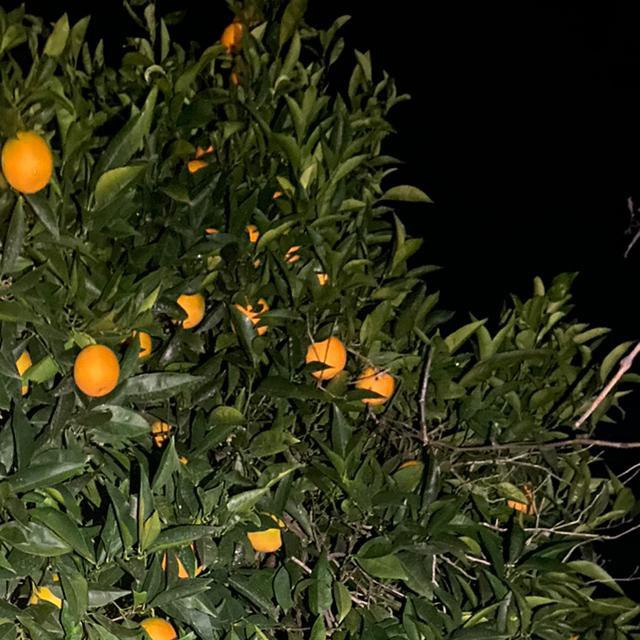orange: (0, 130, 54, 192), (73, 342, 119, 396), (304, 335, 346, 377), (246, 511, 288, 553), (230, 294, 270, 336), (357, 364, 393, 402), (170, 289, 204, 327), (223, 22, 247, 58), (140, 616, 176, 640), (130, 330, 152, 356)
